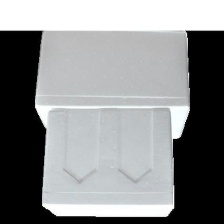foam_box: (29, 31, 193, 141), (37, 104, 180, 220)
